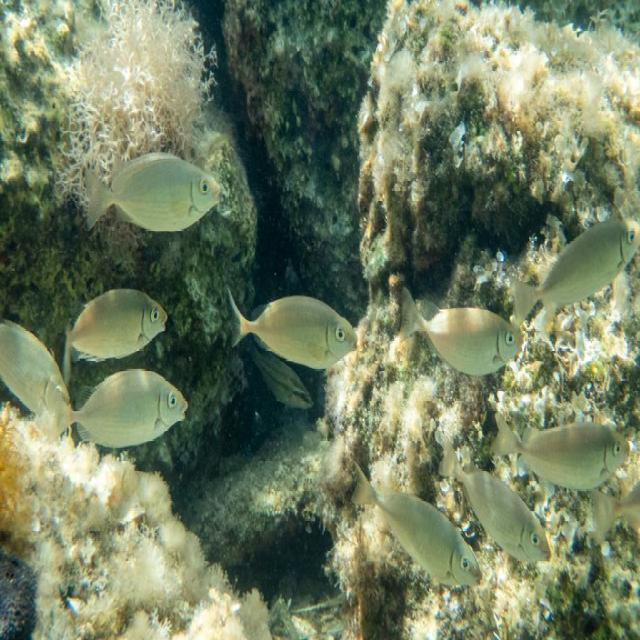Sokar Baligi: (71, 138, 234, 248), (217, 266, 364, 378), (44, 361, 204, 462), (394, 274, 524, 389)
